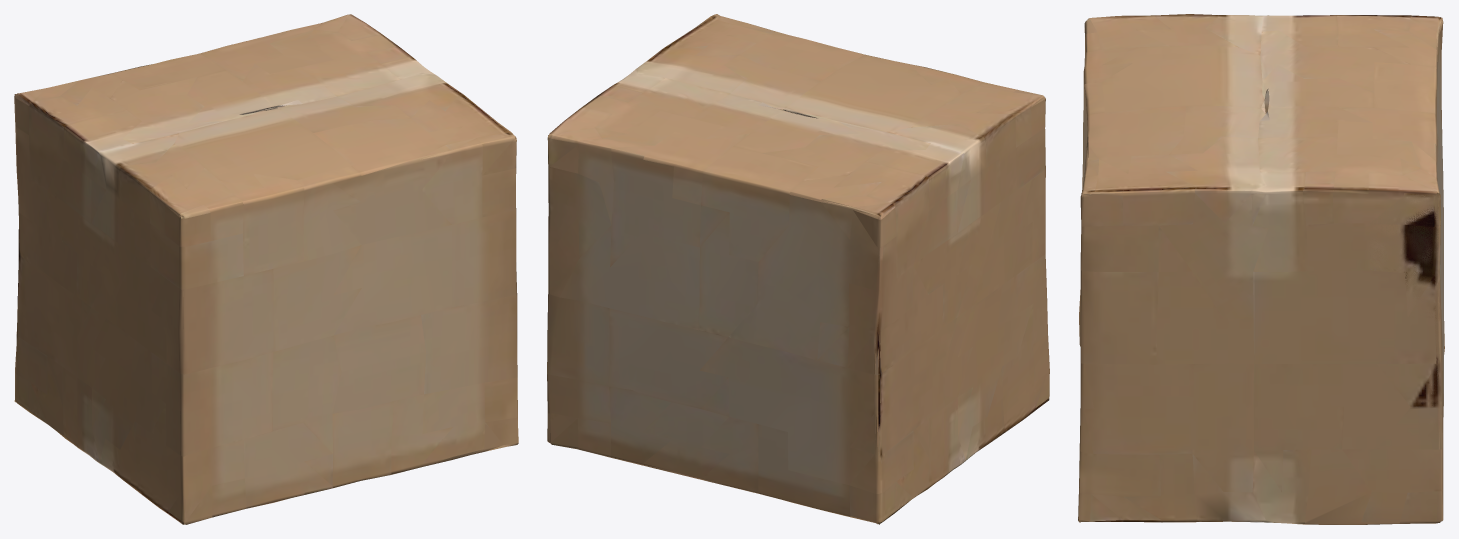
The model's file is paquete.glb.
3 views of the same model, side by side, from view 1: azimuth 30°, elevation 25°; view 2: azimuth 150°, elevation 25°; view 3: azimuth 270°, elevation 25° (orthographic). The views are drawn at different scales.
Size of the model in its own units: 1 by 0.9023 by 0.8848.
Materials: 1 (1 with a texture image).
